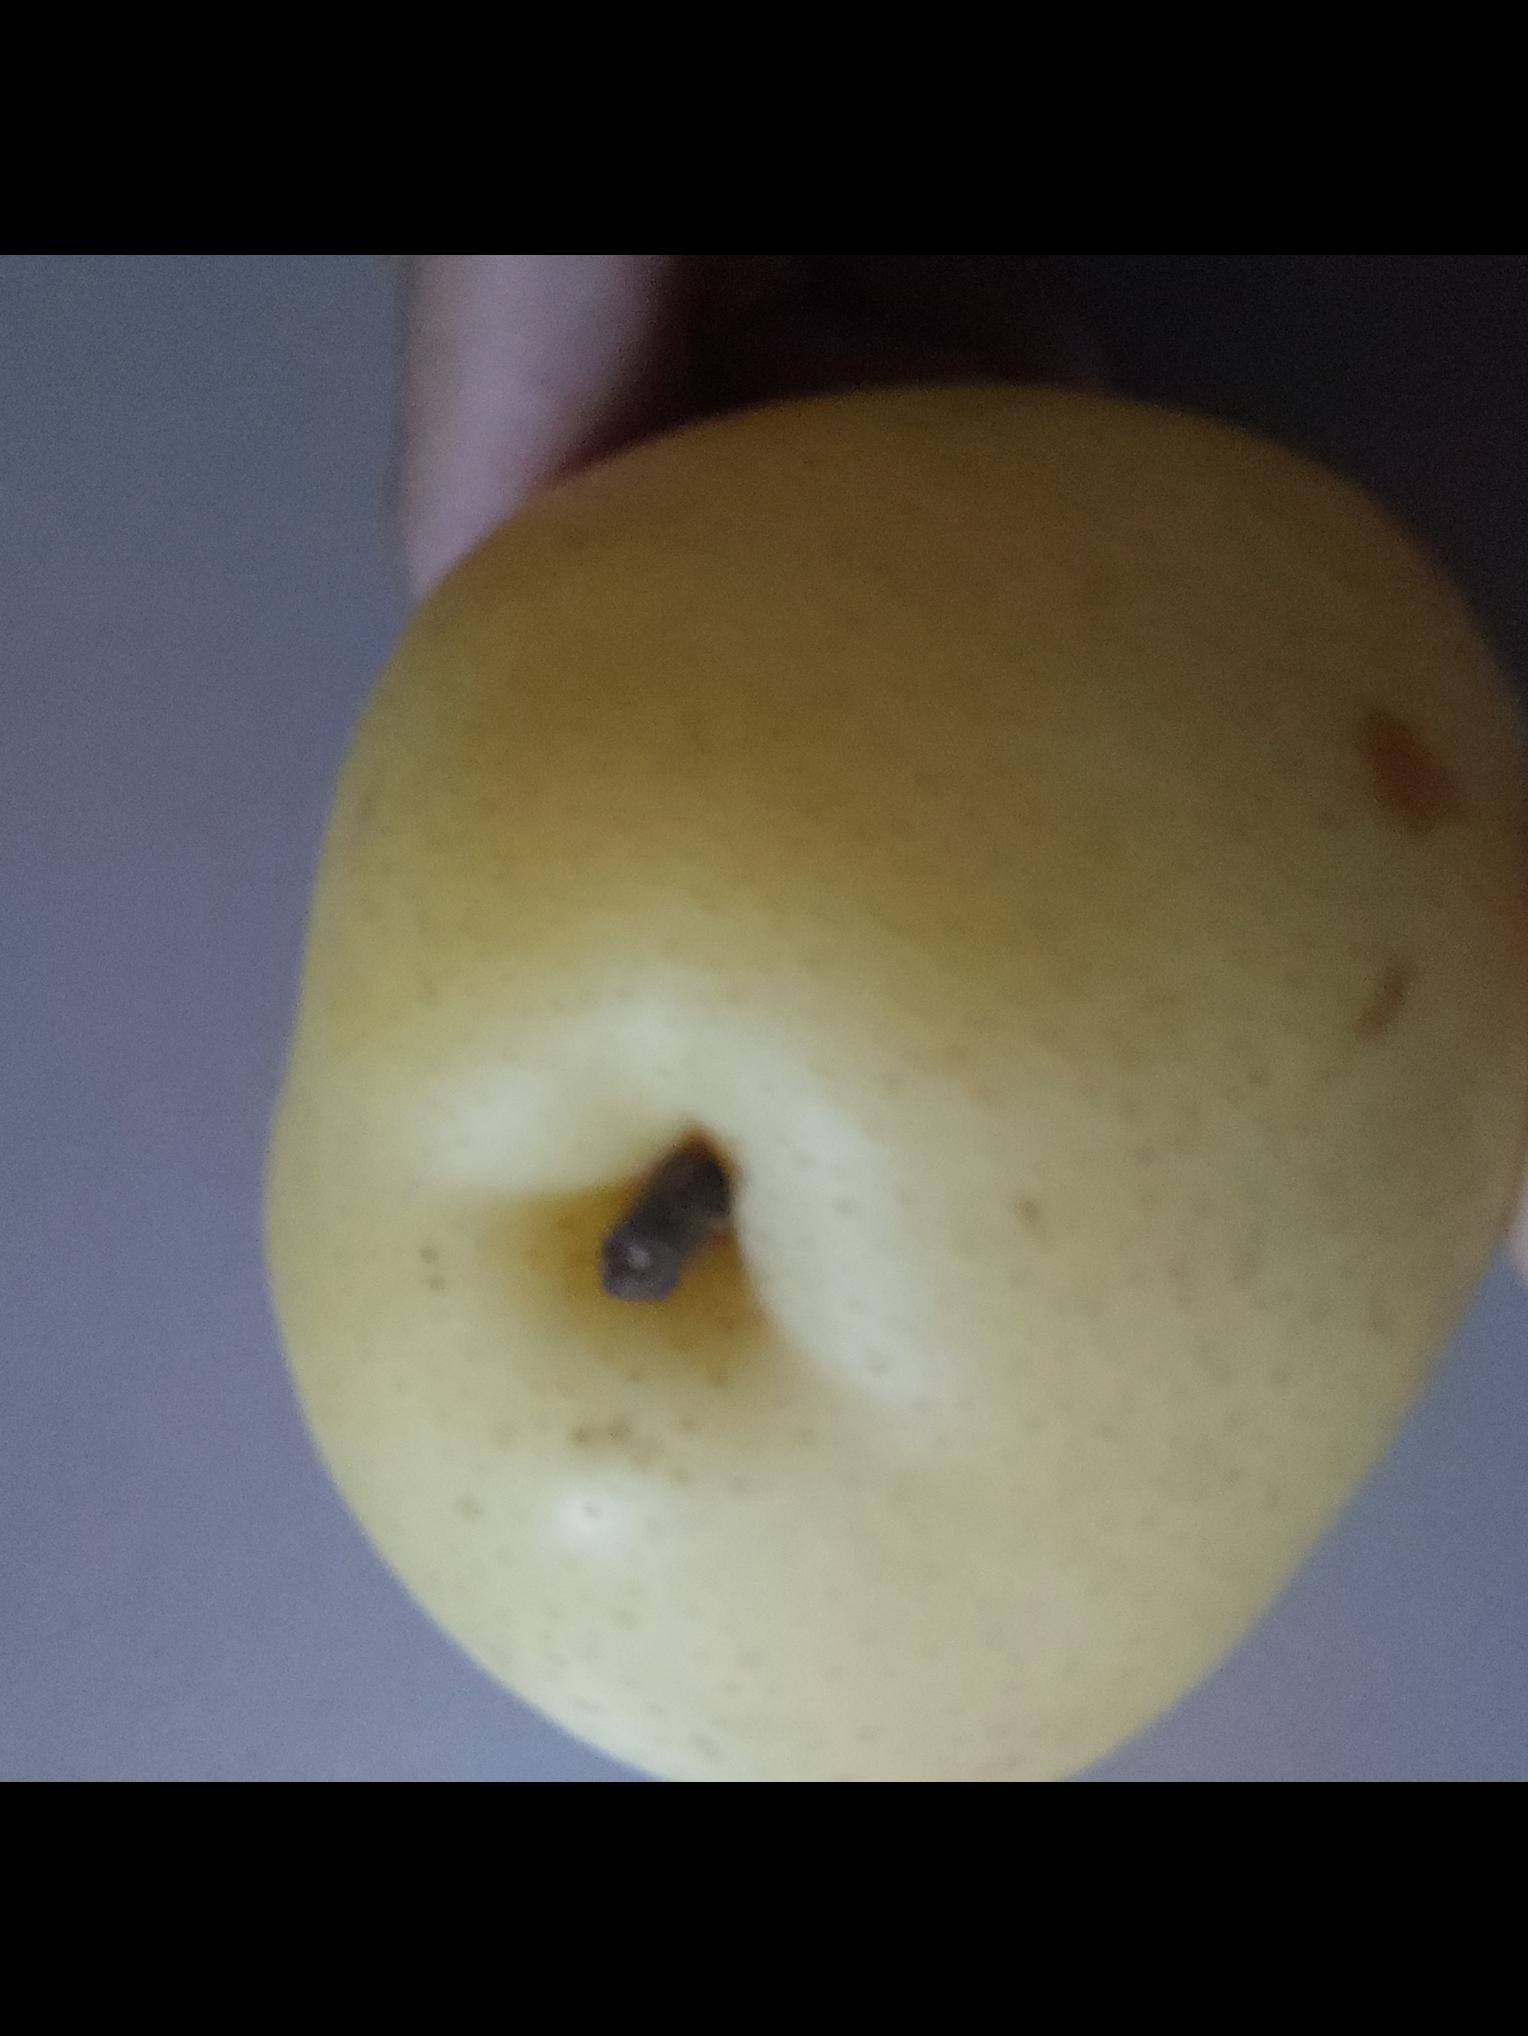Good Pear: (266, 380, 1528, 1783)
